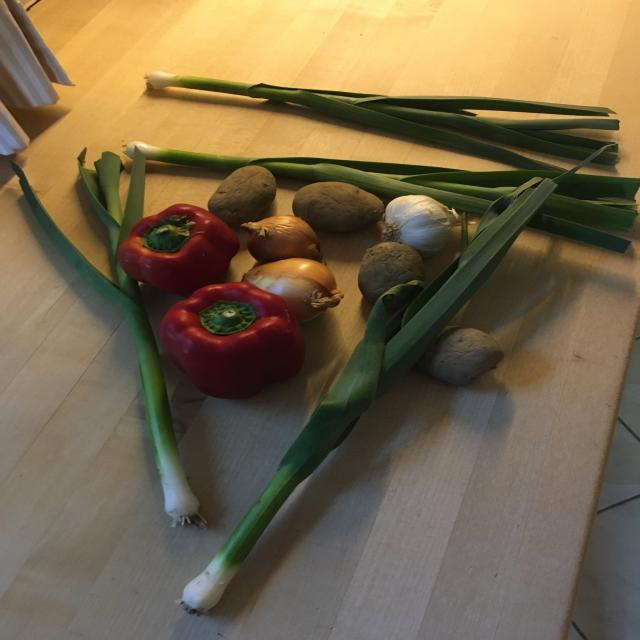Garlic bulb: (380, 192, 470, 260)
Onion: (226, 255, 346, 322), (229, 210, 325, 268)
Potato: (414, 319, 515, 392), (283, 176, 391, 232), (202, 158, 276, 232), (349, 235, 420, 308)
